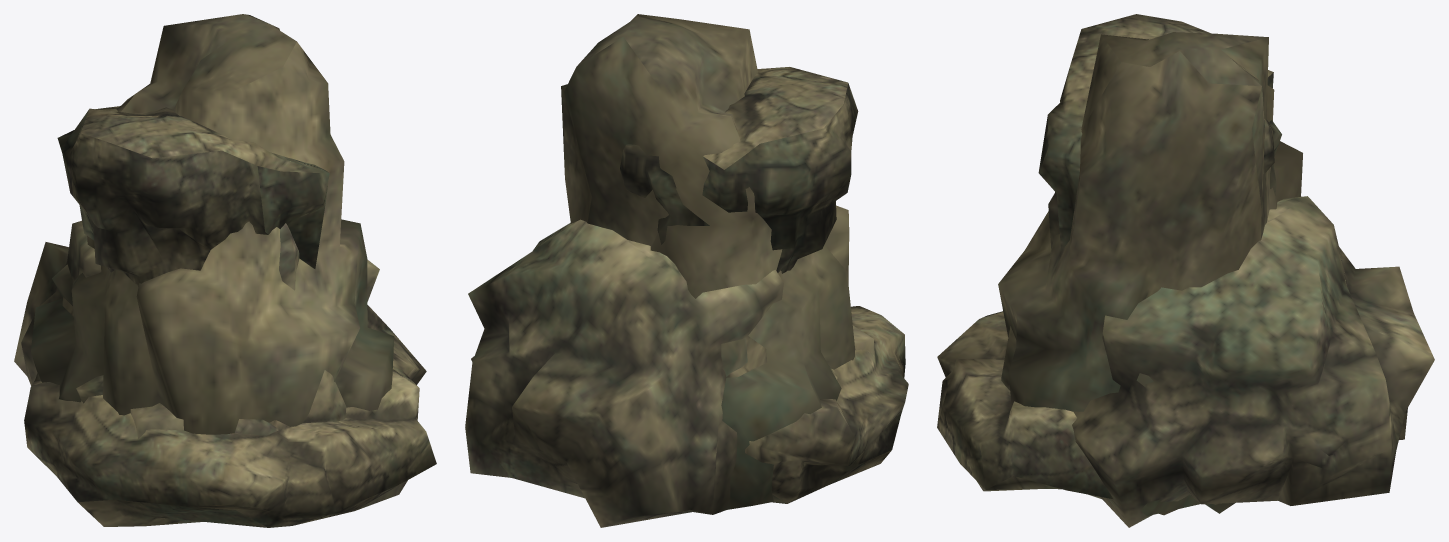
Rendered from Rocks.fbx.
The picture shows the model from 3 angles, left to right: view 1: azimuth 30°, elevation 25°; view 2: azimuth 150°, elevation 25°; view 3: azimuth 270°, elevation 25°; orthographic projection. The views are drawn at different scales.
Visible parts, largest first — view 1: Rock2E_LP:polySurface1, Rock6_LP:polySurface1, polySurface250, Rock1_LP:polySurface1; view 2: Rock1_LP:polySurface1, Rock2E_LP:polySurface1, polySurface250, Rock6_LP:polySurface1; view 3: Rock1_LP:polySurface1, Rock2E_LP:polySurface1, Rock6_LP:polySurface1, polySurface250.
Part boxes in pixels (x1,y1,x2,y2): Rock2E_LP:polySurface1: (31,14,394,434); Rock6_LP:polySurface1: (24,366,436,527); polySurface250: (57,106,329,286); Rock1_LP:polySurface1: (14,220,426,438); Rock1_LP:polySurface1: (465,219,874,527); Rock2E_LP:polySurface1: (561,14,855,509); polySurface250: (620,67,858,273); Rock6_LP:polySurface1: (745,306,908,503); Rock1_LP:polySurface1: (1001,192,1434,527); Rock2E_LP:polySurface1: (998,32,1302,515); Rock6_LP:polySurface1: (937,311,1113,499); polySurface250: (1038,14,1281,515).
Bounding box in the file's own units: 121 × 139 × 141.
